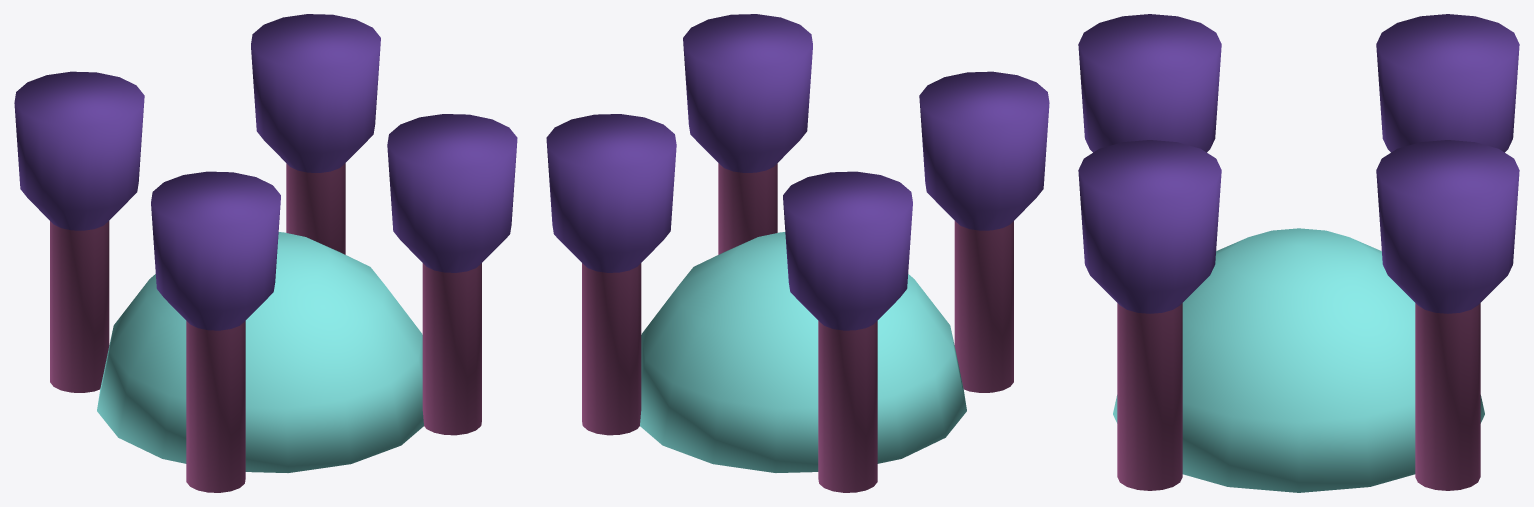
File: homeBase.fbx
3 renders of one model, left to right at view 1: azimuth 30°, elevation 25°; view 2: azimuth 150°, elevation 25°; view 3: azimuth 270°, elevation 25°, orthographic. The views are drawn at different scales.
Parts seen in each view (by area): view 1: Sphere; view 2: Sphere; view 3: Sphere.
Boxes of the visible parts, x1,y1,x2,y2 form: Sphere: (14,14,517,492); Sphere: (546,14,1049,492); Sphere: (1078,14,1519,492).
Size of the model in its own units: 237 by 182 by 237.
